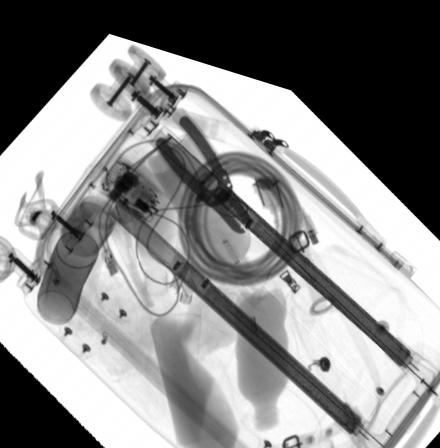Pliers: (154, 102, 252, 219)
